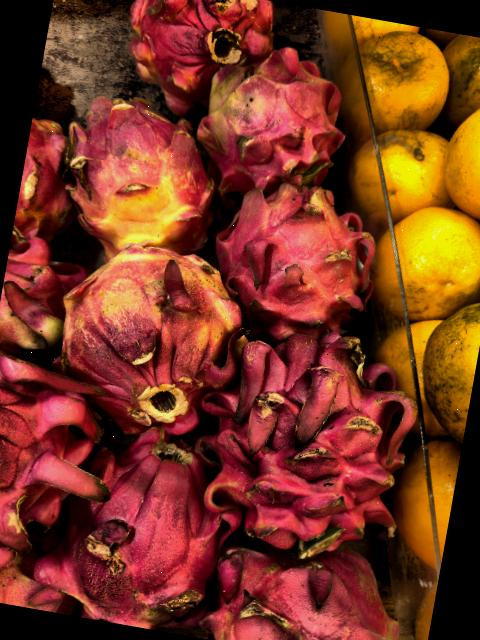buah-naga-belum-matang: (43, 224, 258, 425), (200, 165, 389, 336), (51, 86, 224, 254), (185, 42, 350, 184), (0, 236, 76, 364)
buah-naga-matang: (178, 304, 424, 558), (62, 412, 258, 640), (186, 505, 420, 640), (0, 350, 107, 567), (113, 0, 274, 110), (11, 109, 92, 249)
